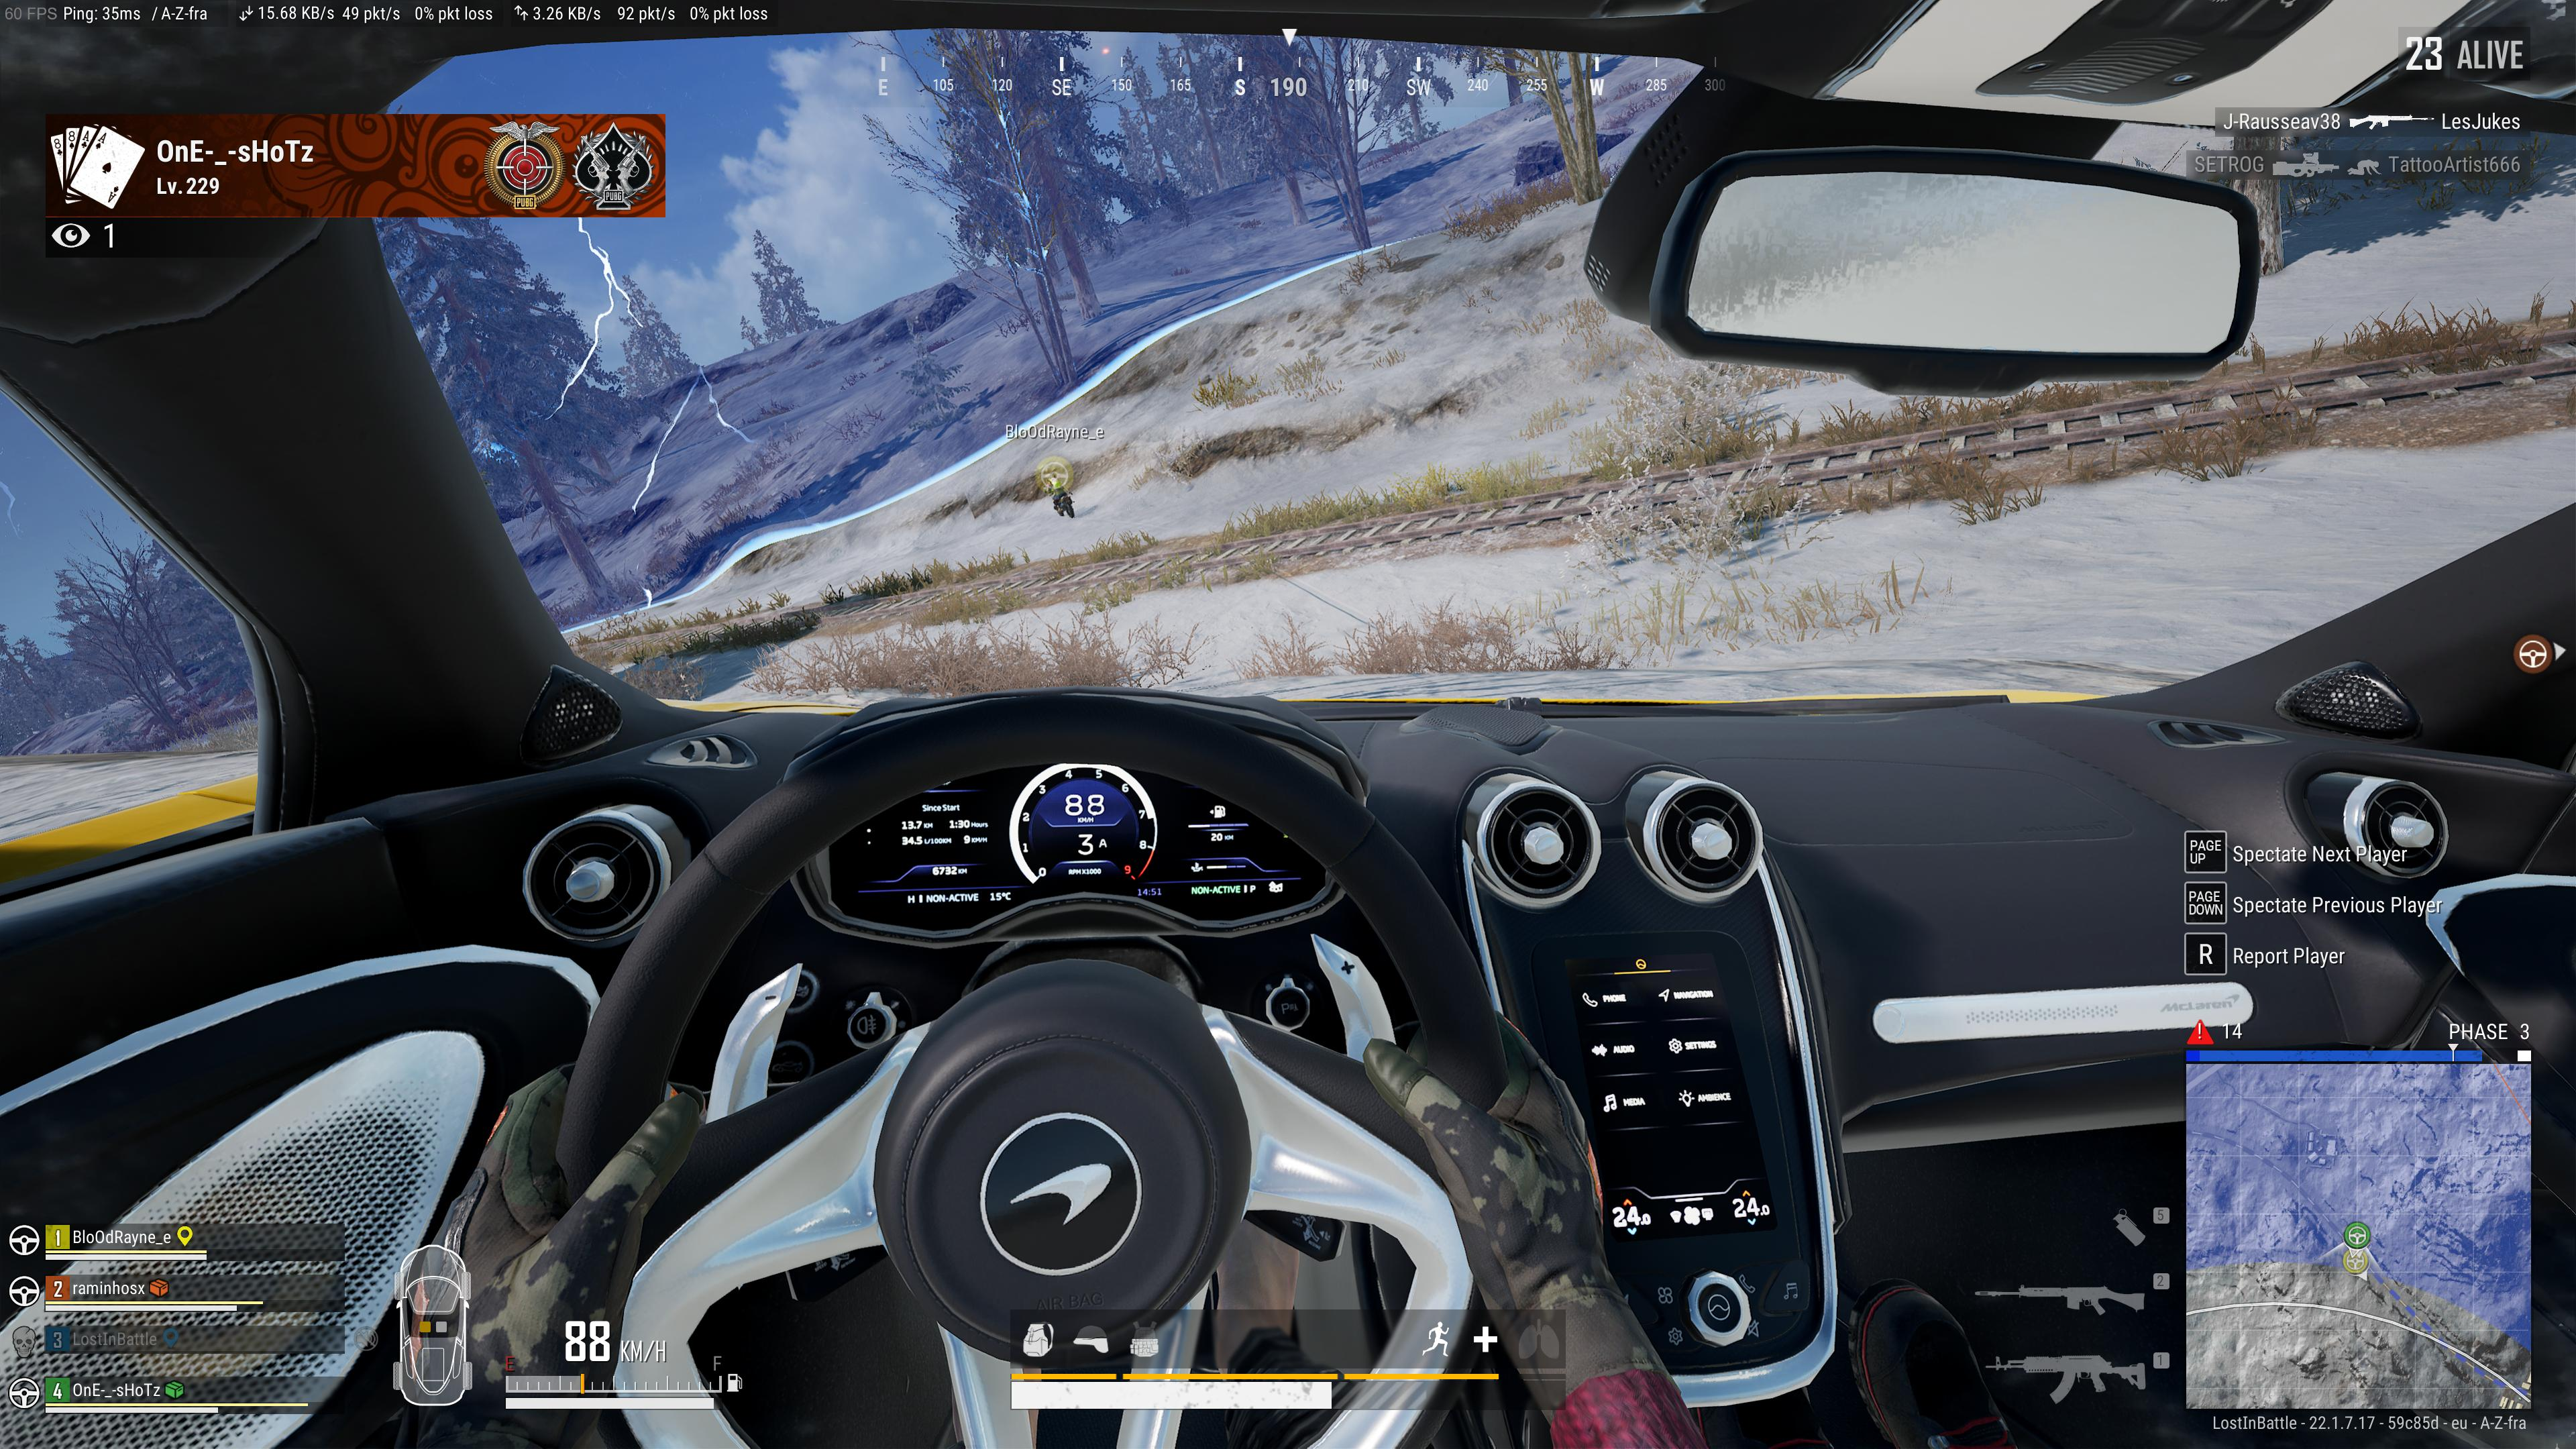friendly: (1046, 472, 1074, 518)
